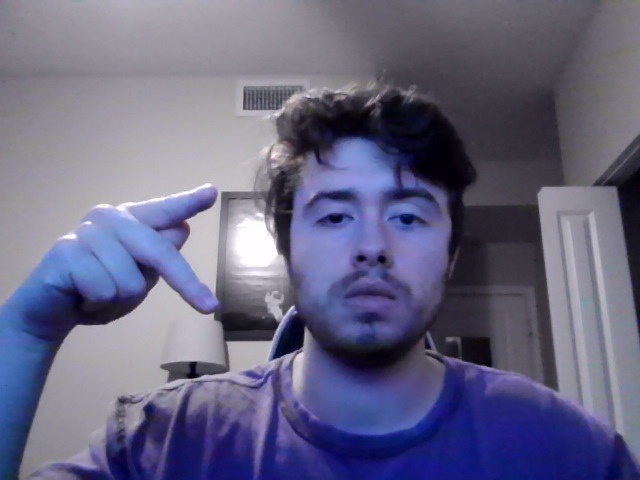p: (10, 183, 220, 351)
